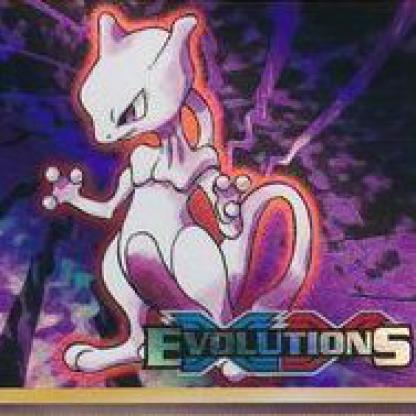Mewtwo: (23, 1, 395, 382)
